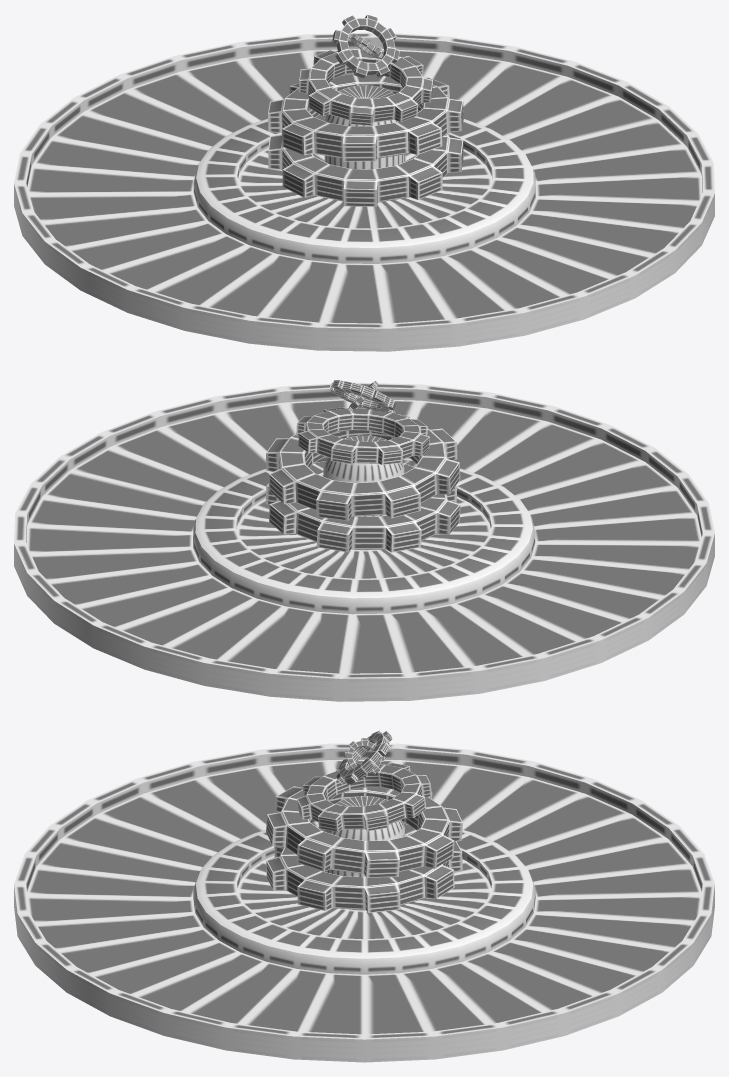
The model's file is Fountain.fbx.
The picture shows the model from 3 angles, top to bottom: view 1: azimuth 30°, elevation 25°; view 2: azimuth 150°, elevation 25°; view 3: azimuth 270°, elevation 25°; orthographic projection.
Parts seen in each view (by area): view 1: Fountain, Tube_1, Tube, Tube_2, Tube_3; view 2: Fountain, Tube_1, Tube, Tube_2, Tube_3; view 3: Fountain, Tube_1, Tube, Tube_2, Tube_3.
Boxes of the visible parts, x1=… form: Fountain: x1=14, y1=32, x2=714, y2=351; Tube_1: x1=268, y1=73, x2=463, y2=161; Tube: x1=268, y1=115, x2=463, y2=206; Tube_2: x1=298, y1=47, x2=432, y2=125; Tube_3: x1=332, y1=14, x2=399, y2=78; Fountain: x1=14, y1=382, x2=714, y2=701; Tube_1: x1=266, y1=414, x2=460, y2=520; Tube: x1=265, y1=457, x2=460, y2=552; Tube_2: x1=296, y1=407, x2=429, y2=464; Tube_3: x1=329, y1=380, x2=396, y2=412; Fountain: x1=14, y1=743, x2=714, y2=1062; Tube_1: x1=266, y1=786, x2=462, y2=877; Tube: x1=266, y1=822, x2=462, y2=912; Tube_2: x1=297, y1=762, x2=431, y2=831; Tube_3: x1=336, y1=730, x2=392, y2=784.
Bounding box in the file's own units: 349 × 99.01 × 350.
Materials: 2 (2 with a texture image).
